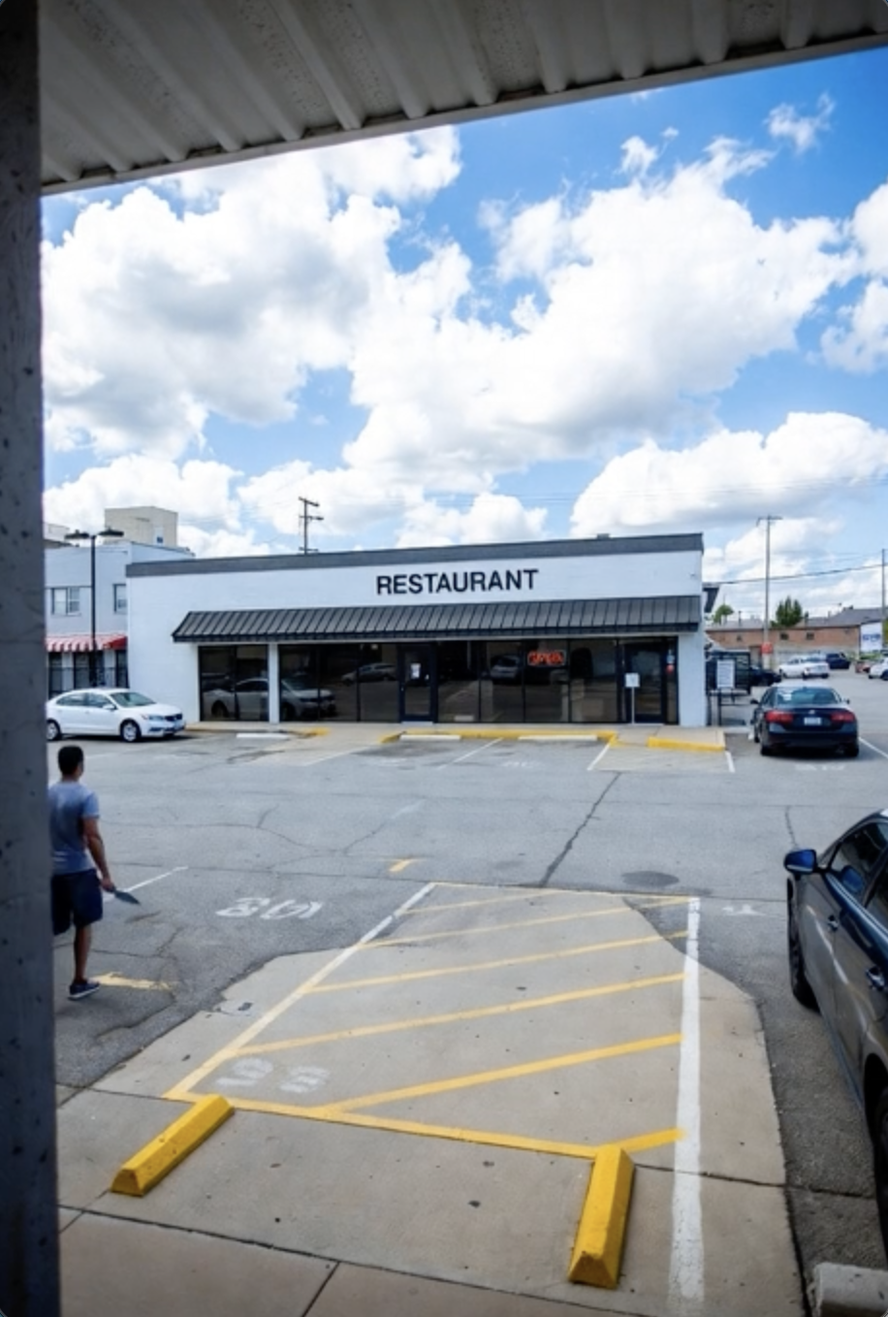Heavy Gun: (43, 743, 127, 1008)
Knife: (91, 871, 139, 907)
